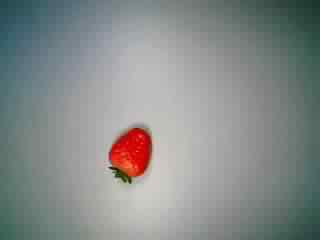strawberry: (97, 122, 165, 186)
